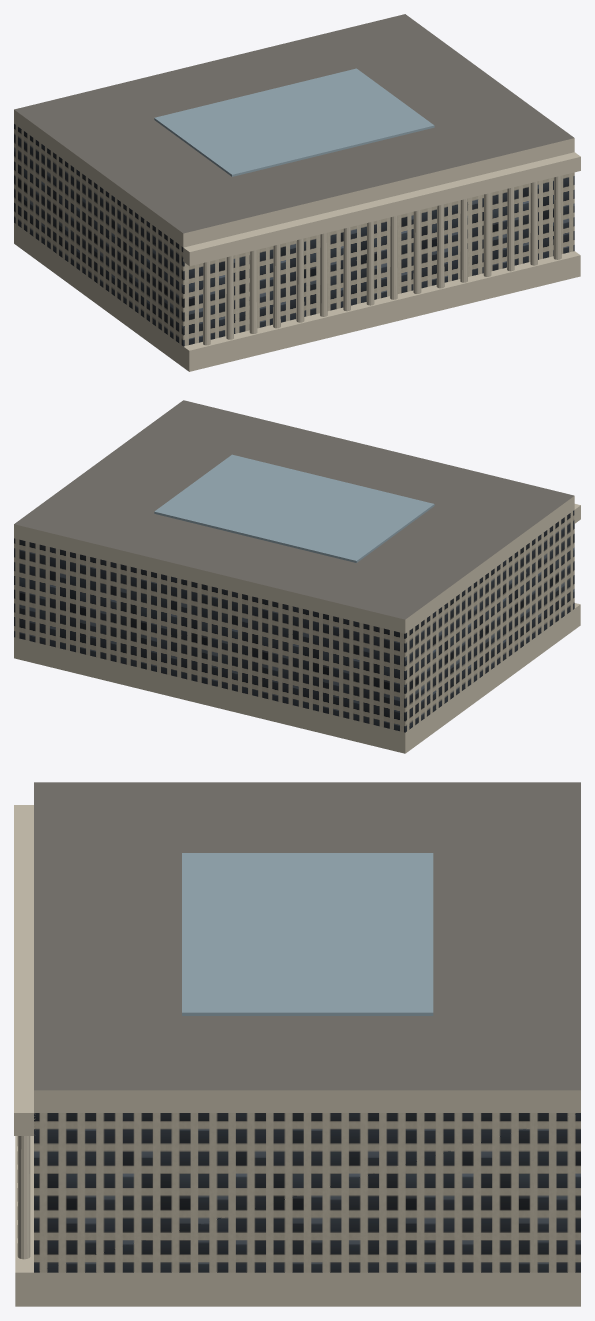
File: union_station.glb
The picture shows the model from 3 angles, top to bottom: view 1: azimuth 30°, elevation 25°; view 2: azimuth 150°, elevation 25°; view 3: azimuth 270°, elevation 25°; orthographic projection. The views are drawn at different scales.
Parts seen in each view (by area): view 1: union_station; view 2: union_station; view 3: union_station.
Part boxes in pixels (x1,y1,x2,y2): union_station: (14, 14, 580, 371); union_station: (14, 400, 580, 753); union_station: (14, 782, 580, 1306).
Bounding box in the file's own units: 116 × 38.6 × 90.2.
Materials: 2 (2 with a texture image).
